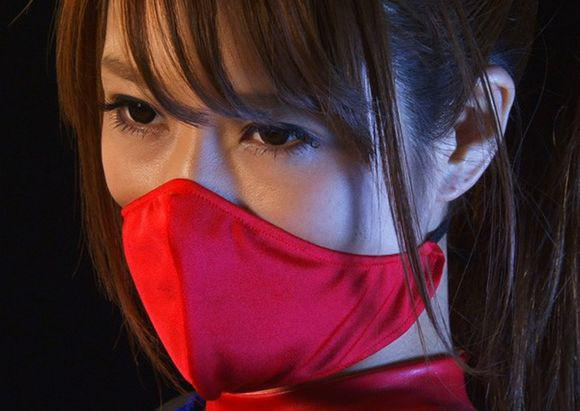OK: (98, 52, 414, 368)
